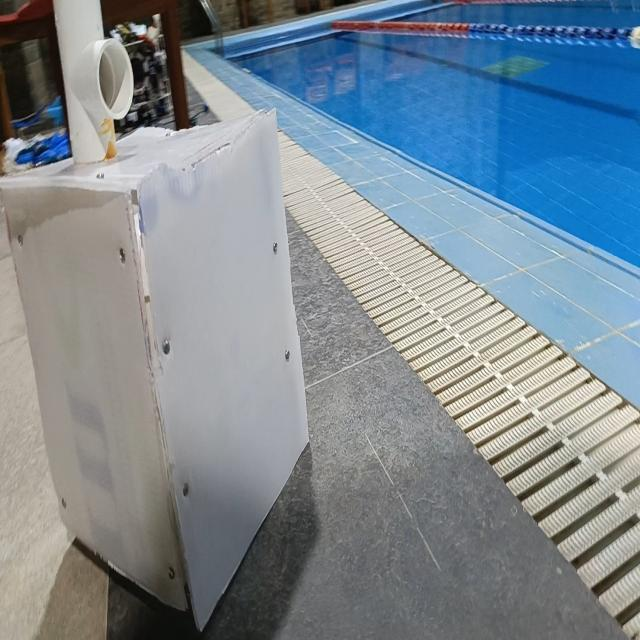Cube: (1, 104, 310, 631)
